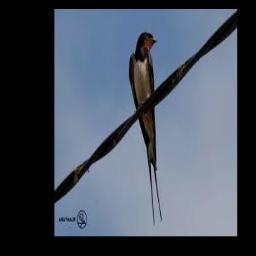Swallow: (129, 32, 162, 224)
